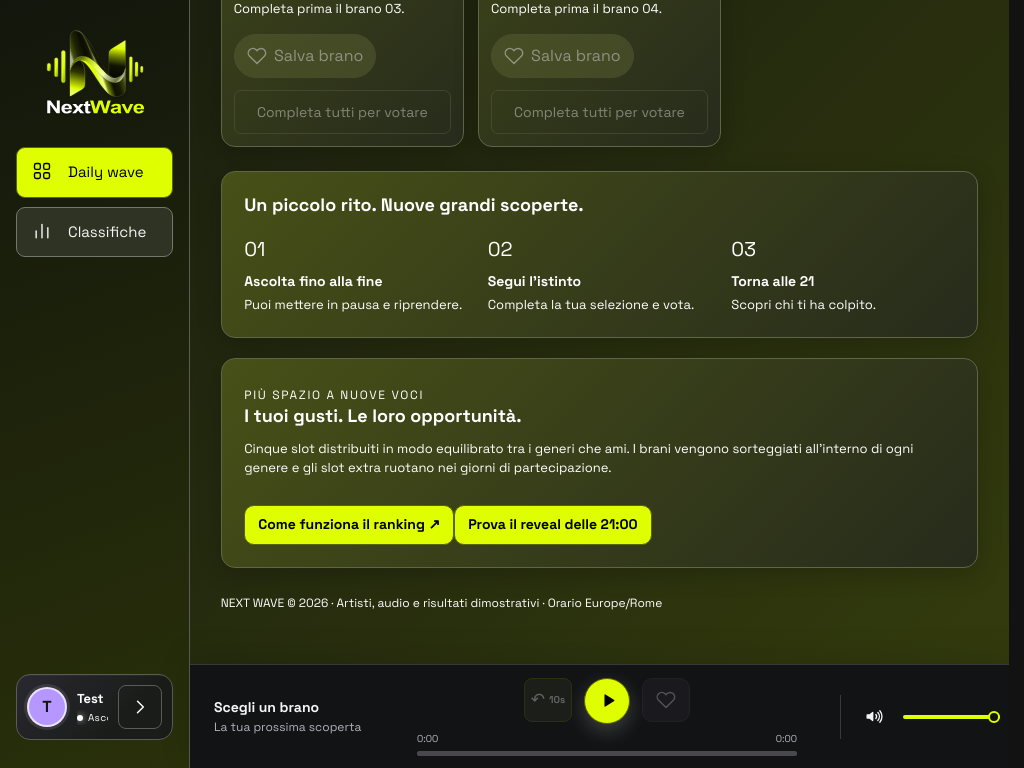
Test: flussi React › il reveal di prova non sblocca audio né sopprime quello reale
(page scrolled)
Click the button "Prova il reveal delle 21:00" at (553, 525), box x1=454 y1=505 x2=652 y2=545
(page scrolled)
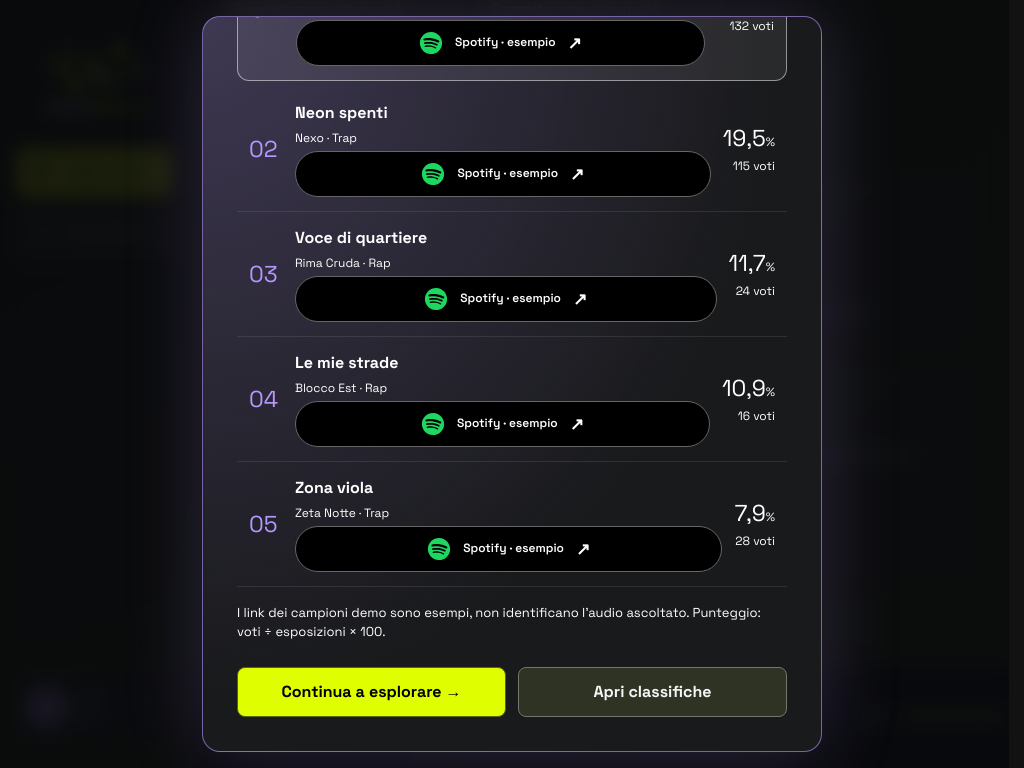
Click the button "Continua a esplorare →" at (372, 692), box x1=237 y1=667 x2=506 y2=717
(page scrolled)
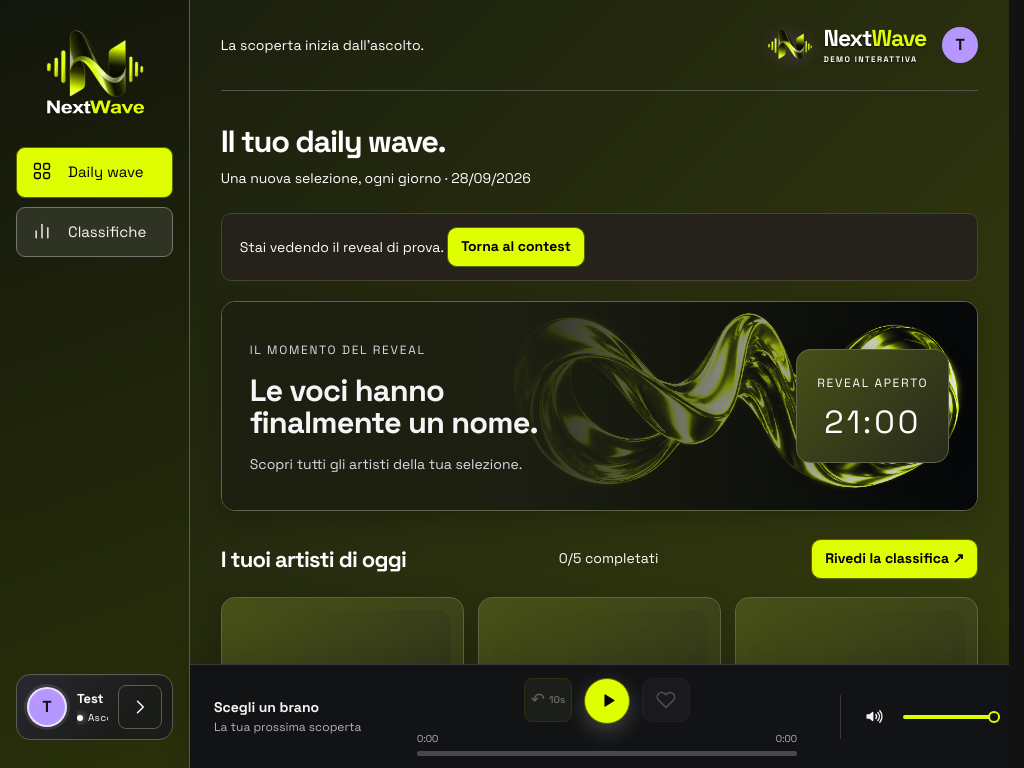
Expected: the button named "Ascolta brano 2" is disabled, x1=576 y1=694 x2=624 y2=742
Click the button "Torna al contest" at (516, 247), box x1=447 y1=227 x2=585 y2=267
Wait 1000 ms
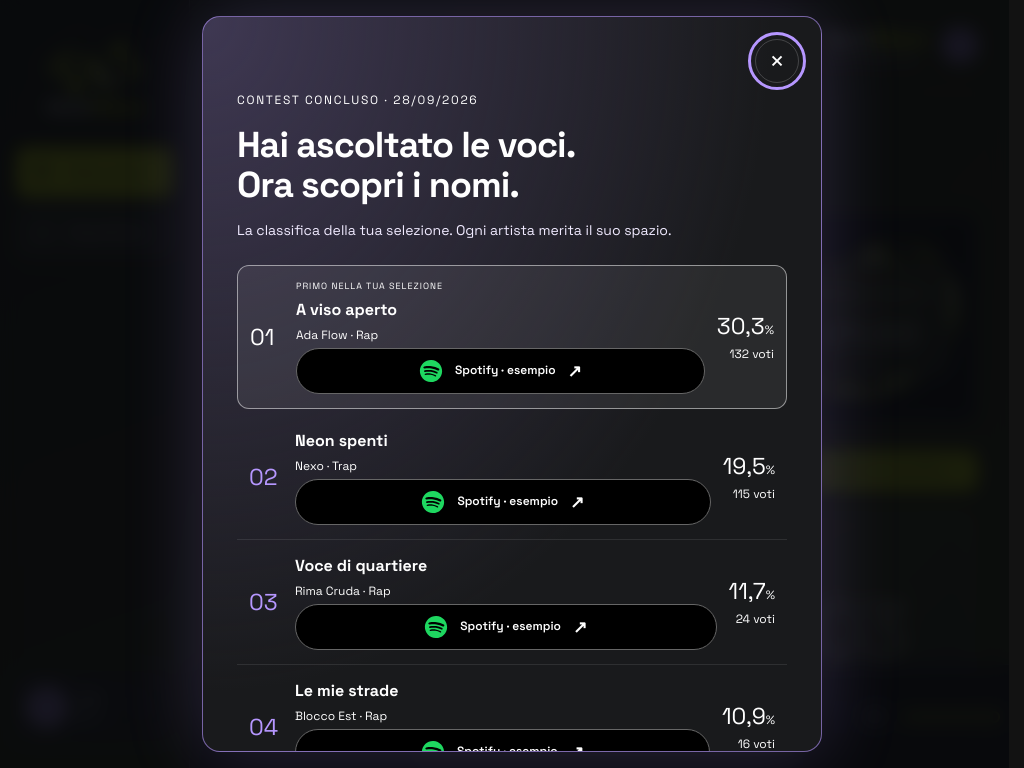
Now the text "CONTEST CONCLUSO · 28/09/2026" is shown, box x1=237 y1=92 x2=478 y2=108
